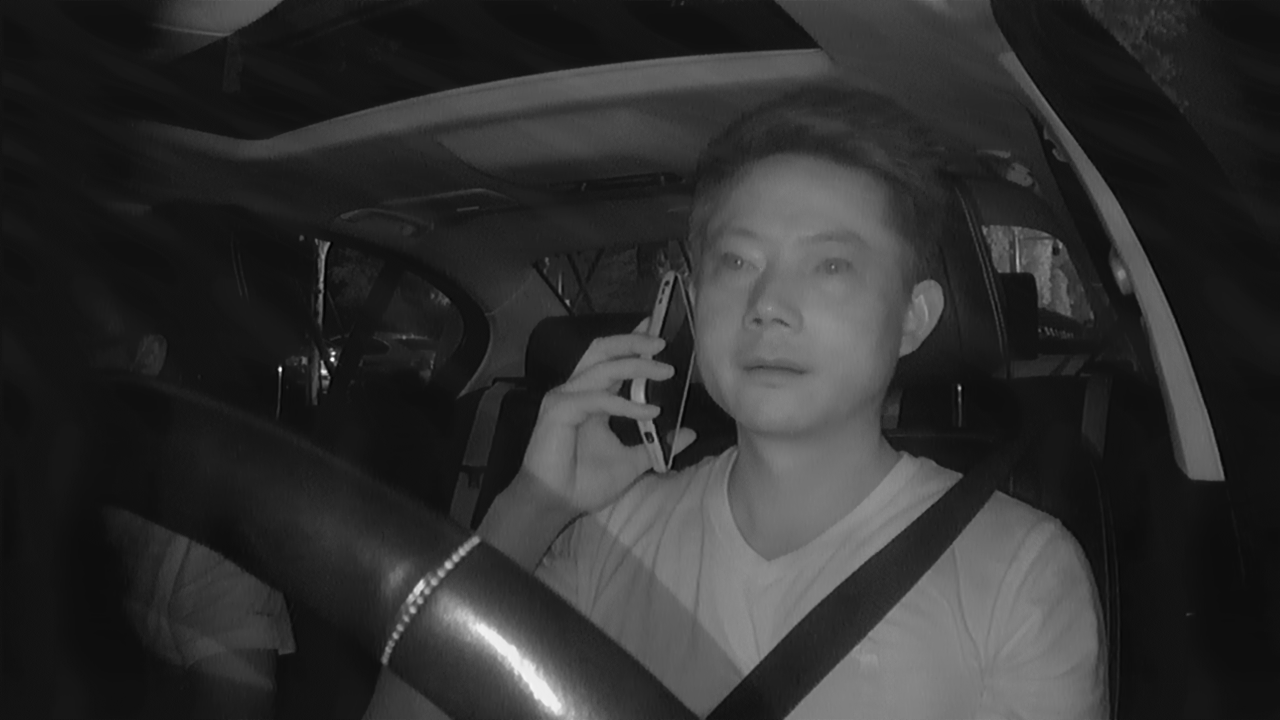hand: (517, 328, 649, 502)
